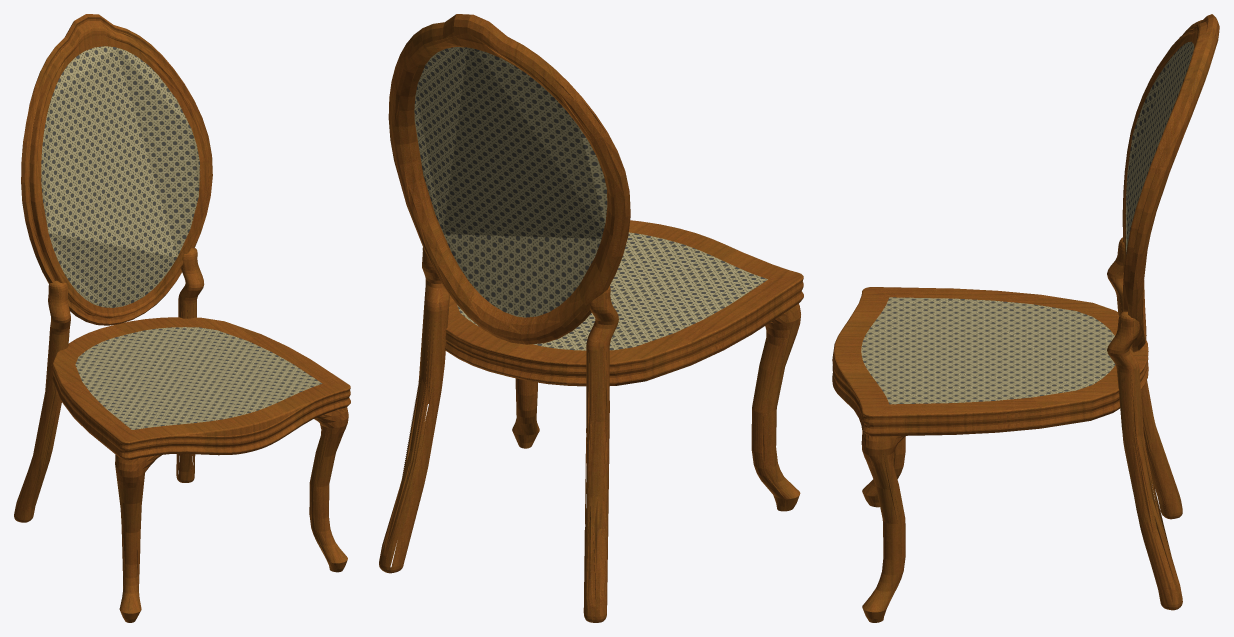
File: sweethome3d-blendswap-cc-0-chair-100.glb
The picture shows the model from 3 angles, left to right: view 1: azimuth 30°, elevation 25°; view 2: azimuth 150°, elevation 25°; view 3: azimuth 270°, elevation 25°; orthographic projection. The views are drawn at different scales.
Visible parts, largest first — view 1: Leuning_Torus.004, Zitting_Plane.082, Voorpoten_Cylinder.066, Achterpoten_Cube.355; view 2: Leuning_Torus.004, Zitting_Plane.082, Achterpoten_Cube.355, Voorpoten_Cylinder.066; view 3: Zitting_Plane.082, Leuning_Torus.004, Achterpoten_Cube.355, Voorpoten_Cylinder.066.
Part boxes in pixels (x1,y1,x2,y2): Leuning_Torus.004: (21,14,212,325); Zitting_Plane.082: (52,317,350,460); Voorpoten_Cylinder.066: (115,407,348,622); Achterpoten_Cube.355: (14,248,204,522); Leuning_Torus.004: (388,14,630,344); Zitting_Plane.082: (445,220,803,386); Achterpoten_Cube.355: (379,247,618,622); Voorpoten_Cylinder.066: (512,303,800,511); Zitting_Plane.082: (832,287,1148,436); Leuning_Torus.004: (1122,14,1219,352); Achterpoten_Cube.355: (1107,237,1182,610); Voorpoten_Cylinder.066: (861,431,905,622).
Bounding box in the file's own units: 49.76 × 98.25 × 63.23.
Materials: 2 (2 with a texture image).
